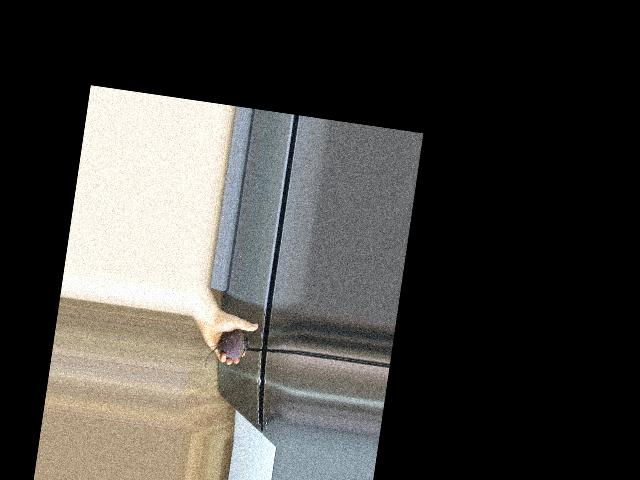beet: (204, 325, 250, 375)
